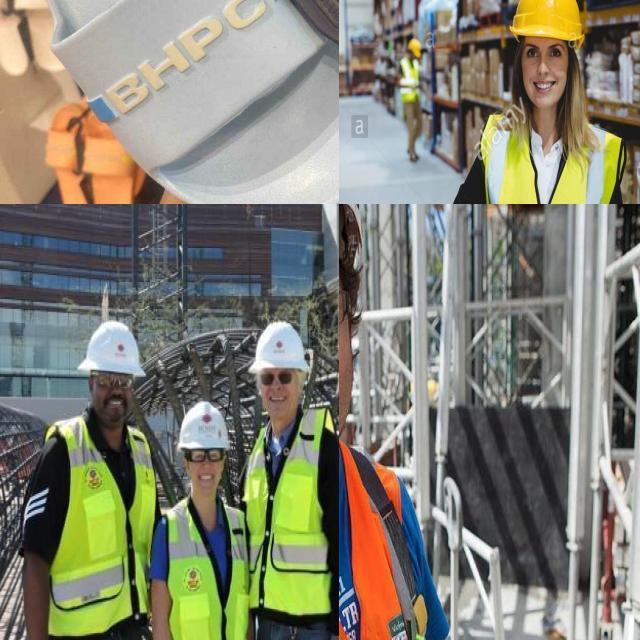No_Glasses: (522, 37, 568, 64)
Sandals: (0, 0, 339, 204)
face_nomask: (520, 36, 572, 113), (86, 371, 134, 438), (256, 364, 298, 426), (185, 446, 223, 492)
glasses: (90, 369, 138, 393), (256, 364, 296, 388), (186, 444, 224, 464)
head_helmet: (74, 317, 149, 381), (496, 0, 596, 44), (243, 323, 316, 371), (172, 400, 235, 450), (408, 37, 424, 55)
person: (339, 204, 480, 640), (26, 317, 147, 640), (470, 0, 628, 204), (242, 320, 339, 640), (151, 399, 254, 640), (397, 35, 428, 160)
vest: (48, 415, 158, 612), (238, 416, 339, 617), (155, 495, 256, 640), (484, 106, 629, 204), (397, 58, 430, 106)
